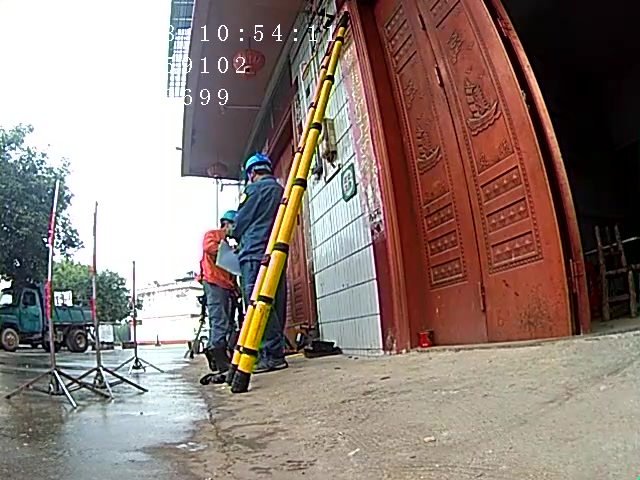halt: (246, 156, 275, 184), (221, 213, 240, 234)
